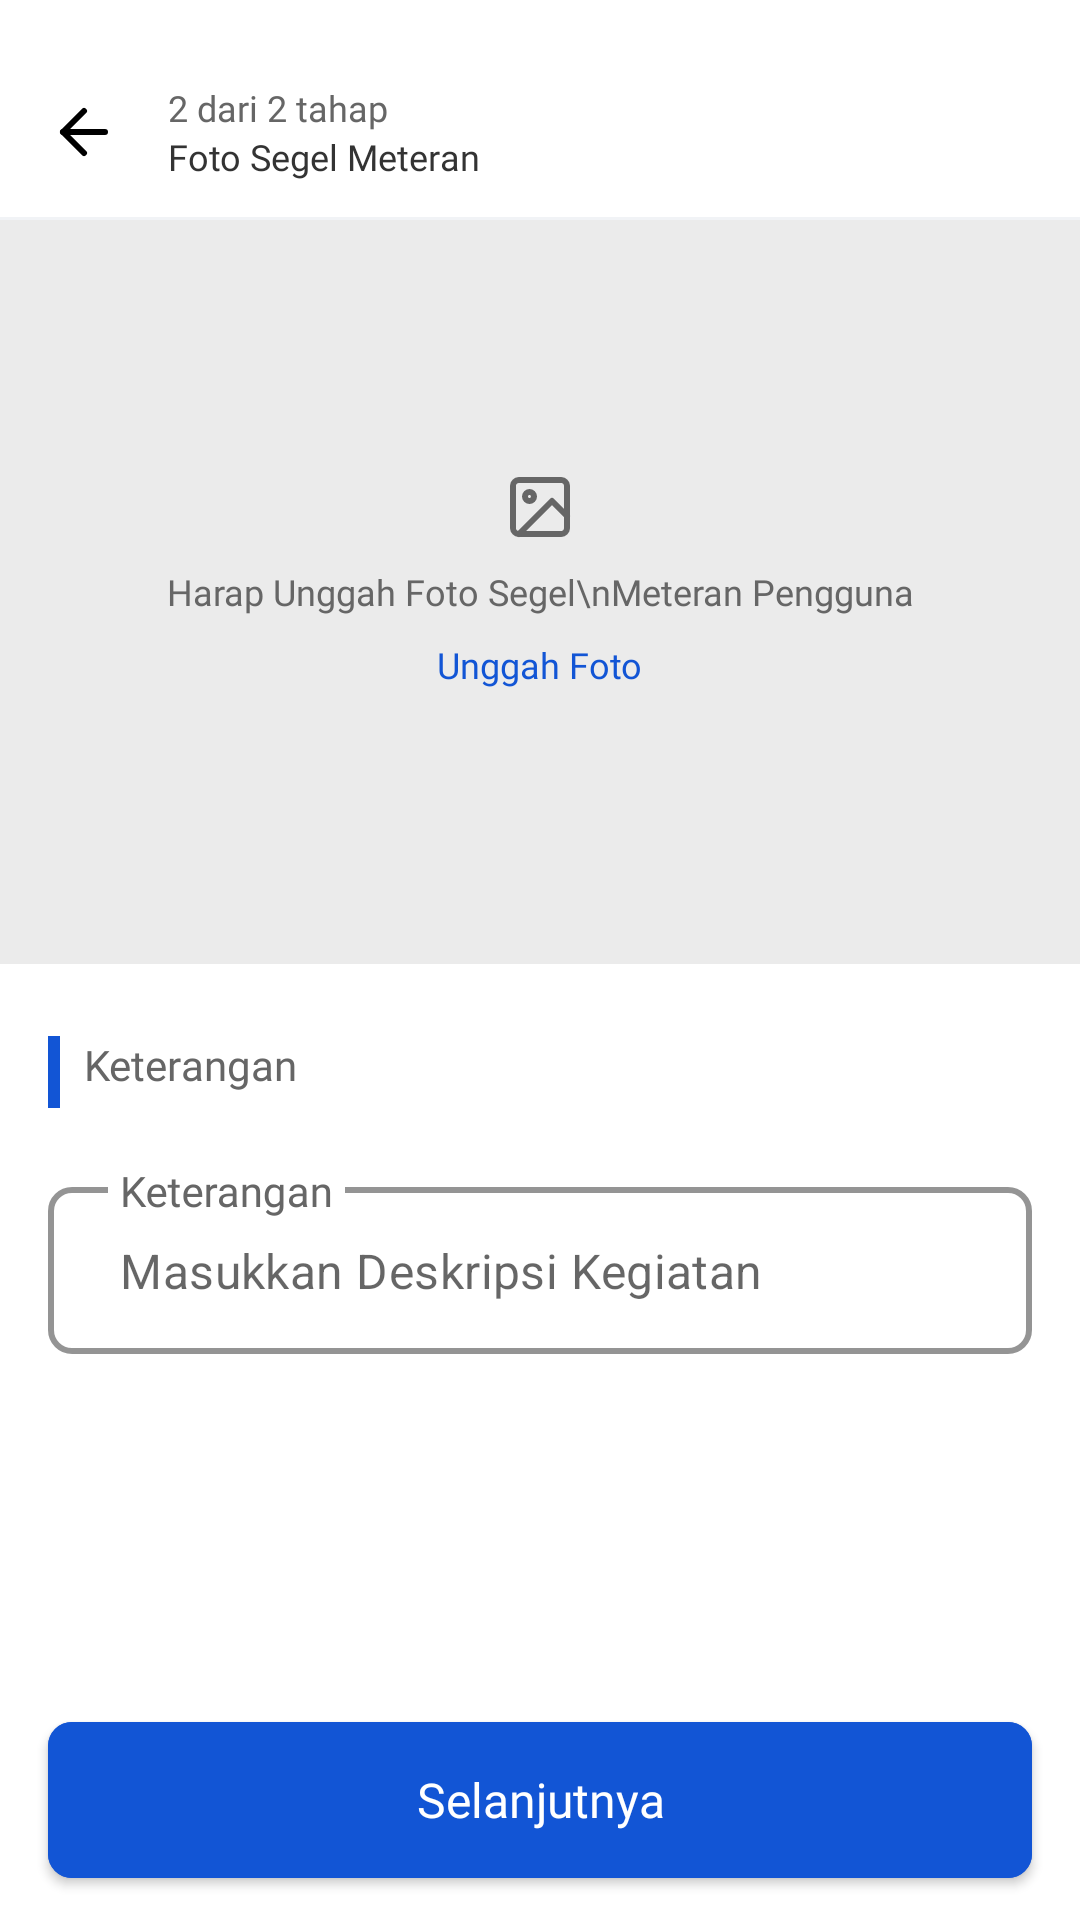

Screen size 1080w x 1920h. Icon name, then its box in pixels as BBox(x1, y1, x2, y2):
back: BBox(60, 108, 108, 156)
